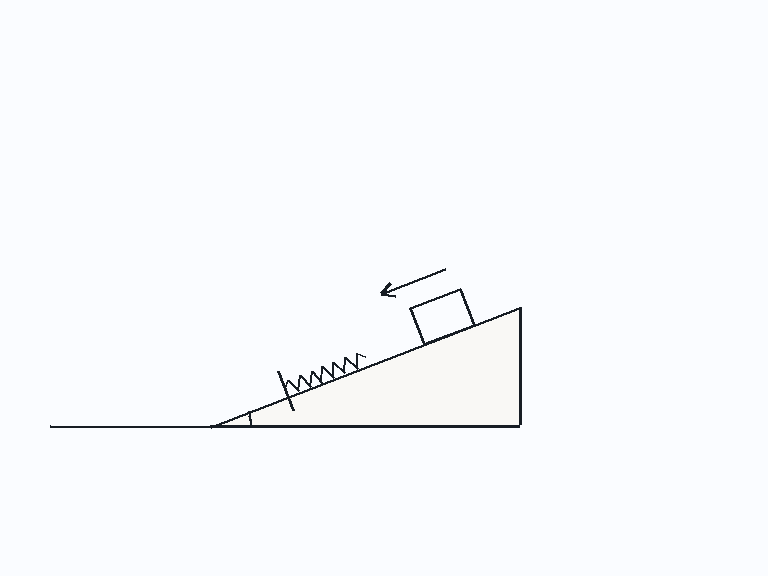block: (408, 287, 476, 346)
ramp: (209, 306, 521, 428)
spring: (283, 351, 367, 392)
